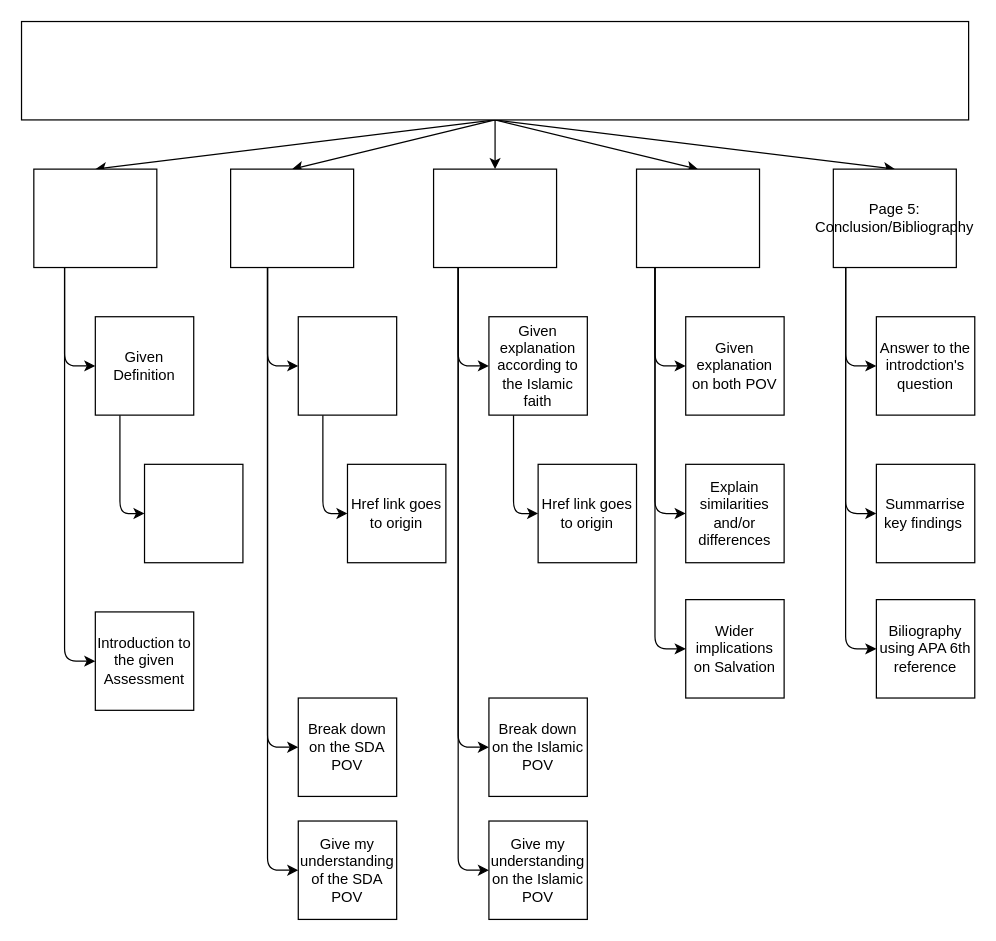
The diagram is 996 pixels wide and 941 high, and some of its shapes have lost their labels. The shapes that lost their labels are listed below. From the top down, each one's centre as x and y in pixels, then its label:
At [494,70]: "Homepage/Title: Salvation".
At [95,218]: "Page 1: What is Salvation? (Intro)".
At [291,218]: "Page 2: Salvation according to the SDA Church".
At [494,218]: "Page 3: Salvation according to the Islamic faith".
At [697,218]: "Page 4: Significance of salvation".
At [347,365]: "Given explanation according to the SDA Church".
At [193,513]: "Href link goes to definition origin".
